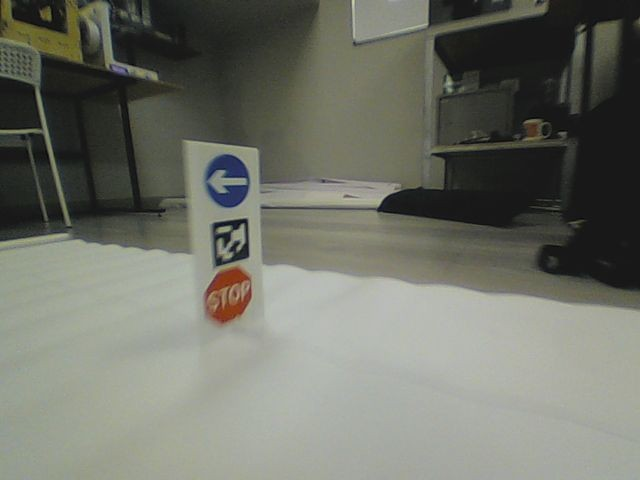Stop: (204, 267, 253, 324)
